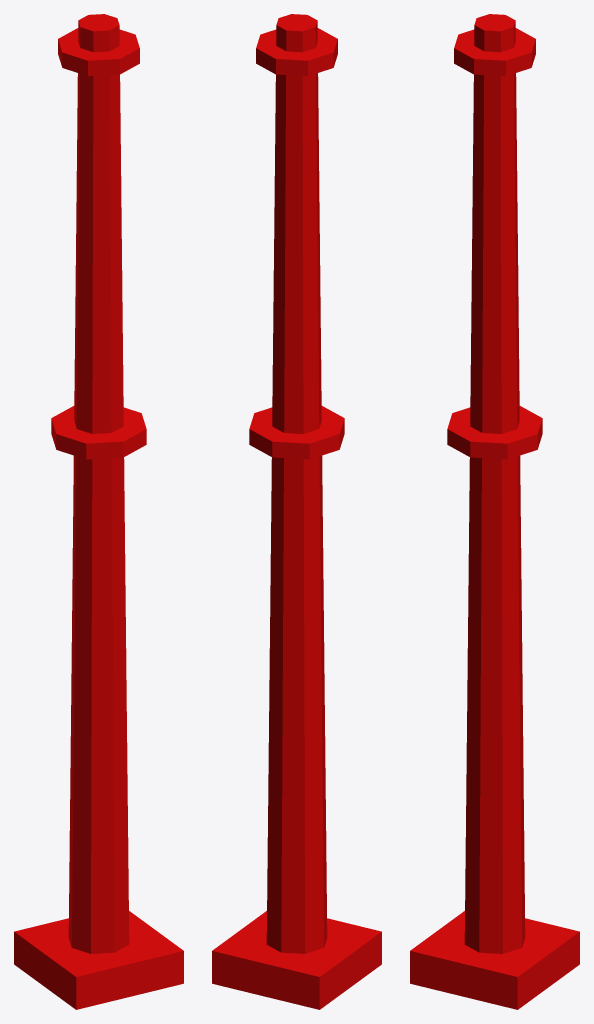
File: SM_Bld_SmokeStack_01_Collision.fbx
3 renders of one model, left to right at view 1: azimuth 30°, elevation 25°; view 2: azimuth 150°, elevation 25°; view 3: azimuth 330°, elevation 25°, orthographic.
Parts seen in each view (by area): view 1: SM_Bld_SmokeStack_01_Collision; view 2: SM_Bld_SmokeStack_01_Collision; view 3: SM_Bld_SmokeStack_01_Collision.
Boxes of the visible parts, x1=… form: SM_Bld_SmokeStack_01_Collision: x1=14, y1=14, x2=183, y2=1009; SM_Bld_SmokeStack_01_Collision: x1=212, y1=14, x2=381, y2=1009; SM_Bld_SmokeStack_01_Collision: x1=410, y1=14, x2=579, y2=1009.
Bounding box in the file's own units: 421 × 3558 × 421.
